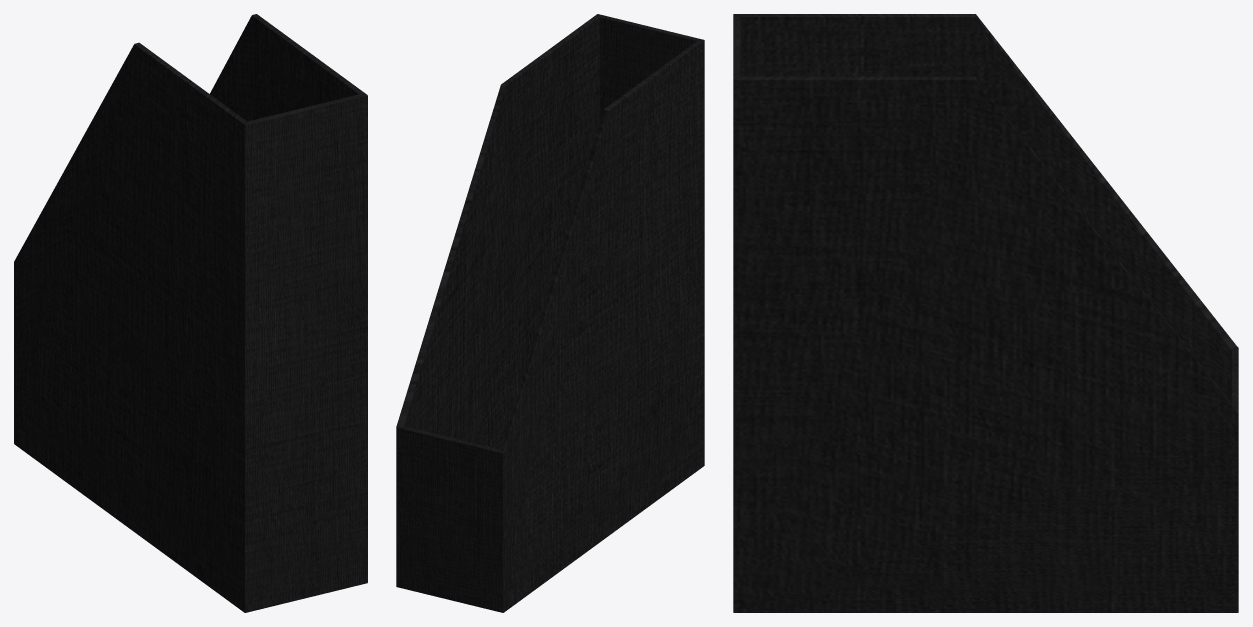
The model's file is SM_paperfile.fbx.
The picture shows the model from 3 angles, left to right: view 1: azimuth 30°, elevation 25°; view 2: azimuth 150°, elevation 25°; view 3: azimuth 270°, elevation 25°; orthographic projection. The views are drawn at different scales.
Parts seen in each view (by area): view 1: pCube52; view 2: pCube52; view 3: pCube52.
Part boxes in pixels (x1,y1,x2,y2): pCube52: [14, 14, 367, 612]; pCube52: [396, 14, 704, 612]; pCube52: [733, 14, 1238, 612].
Size of the model in its own units: 6.29 by 23.77 by 20.39.
